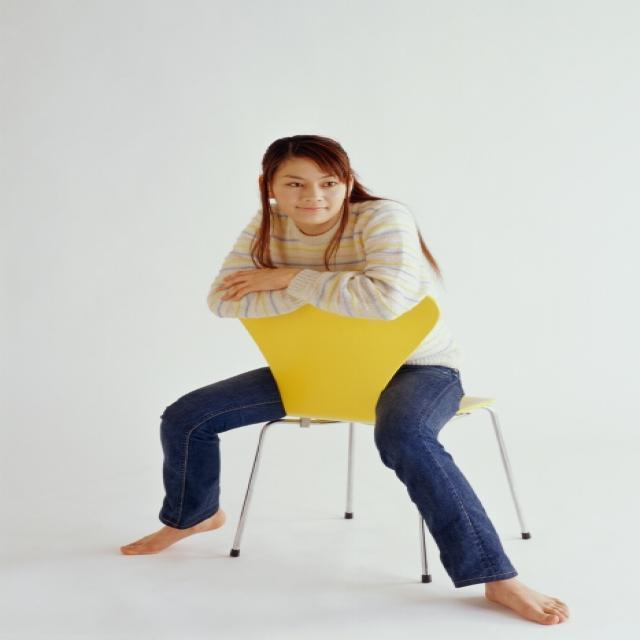direk: (114, 133, 566, 629)
